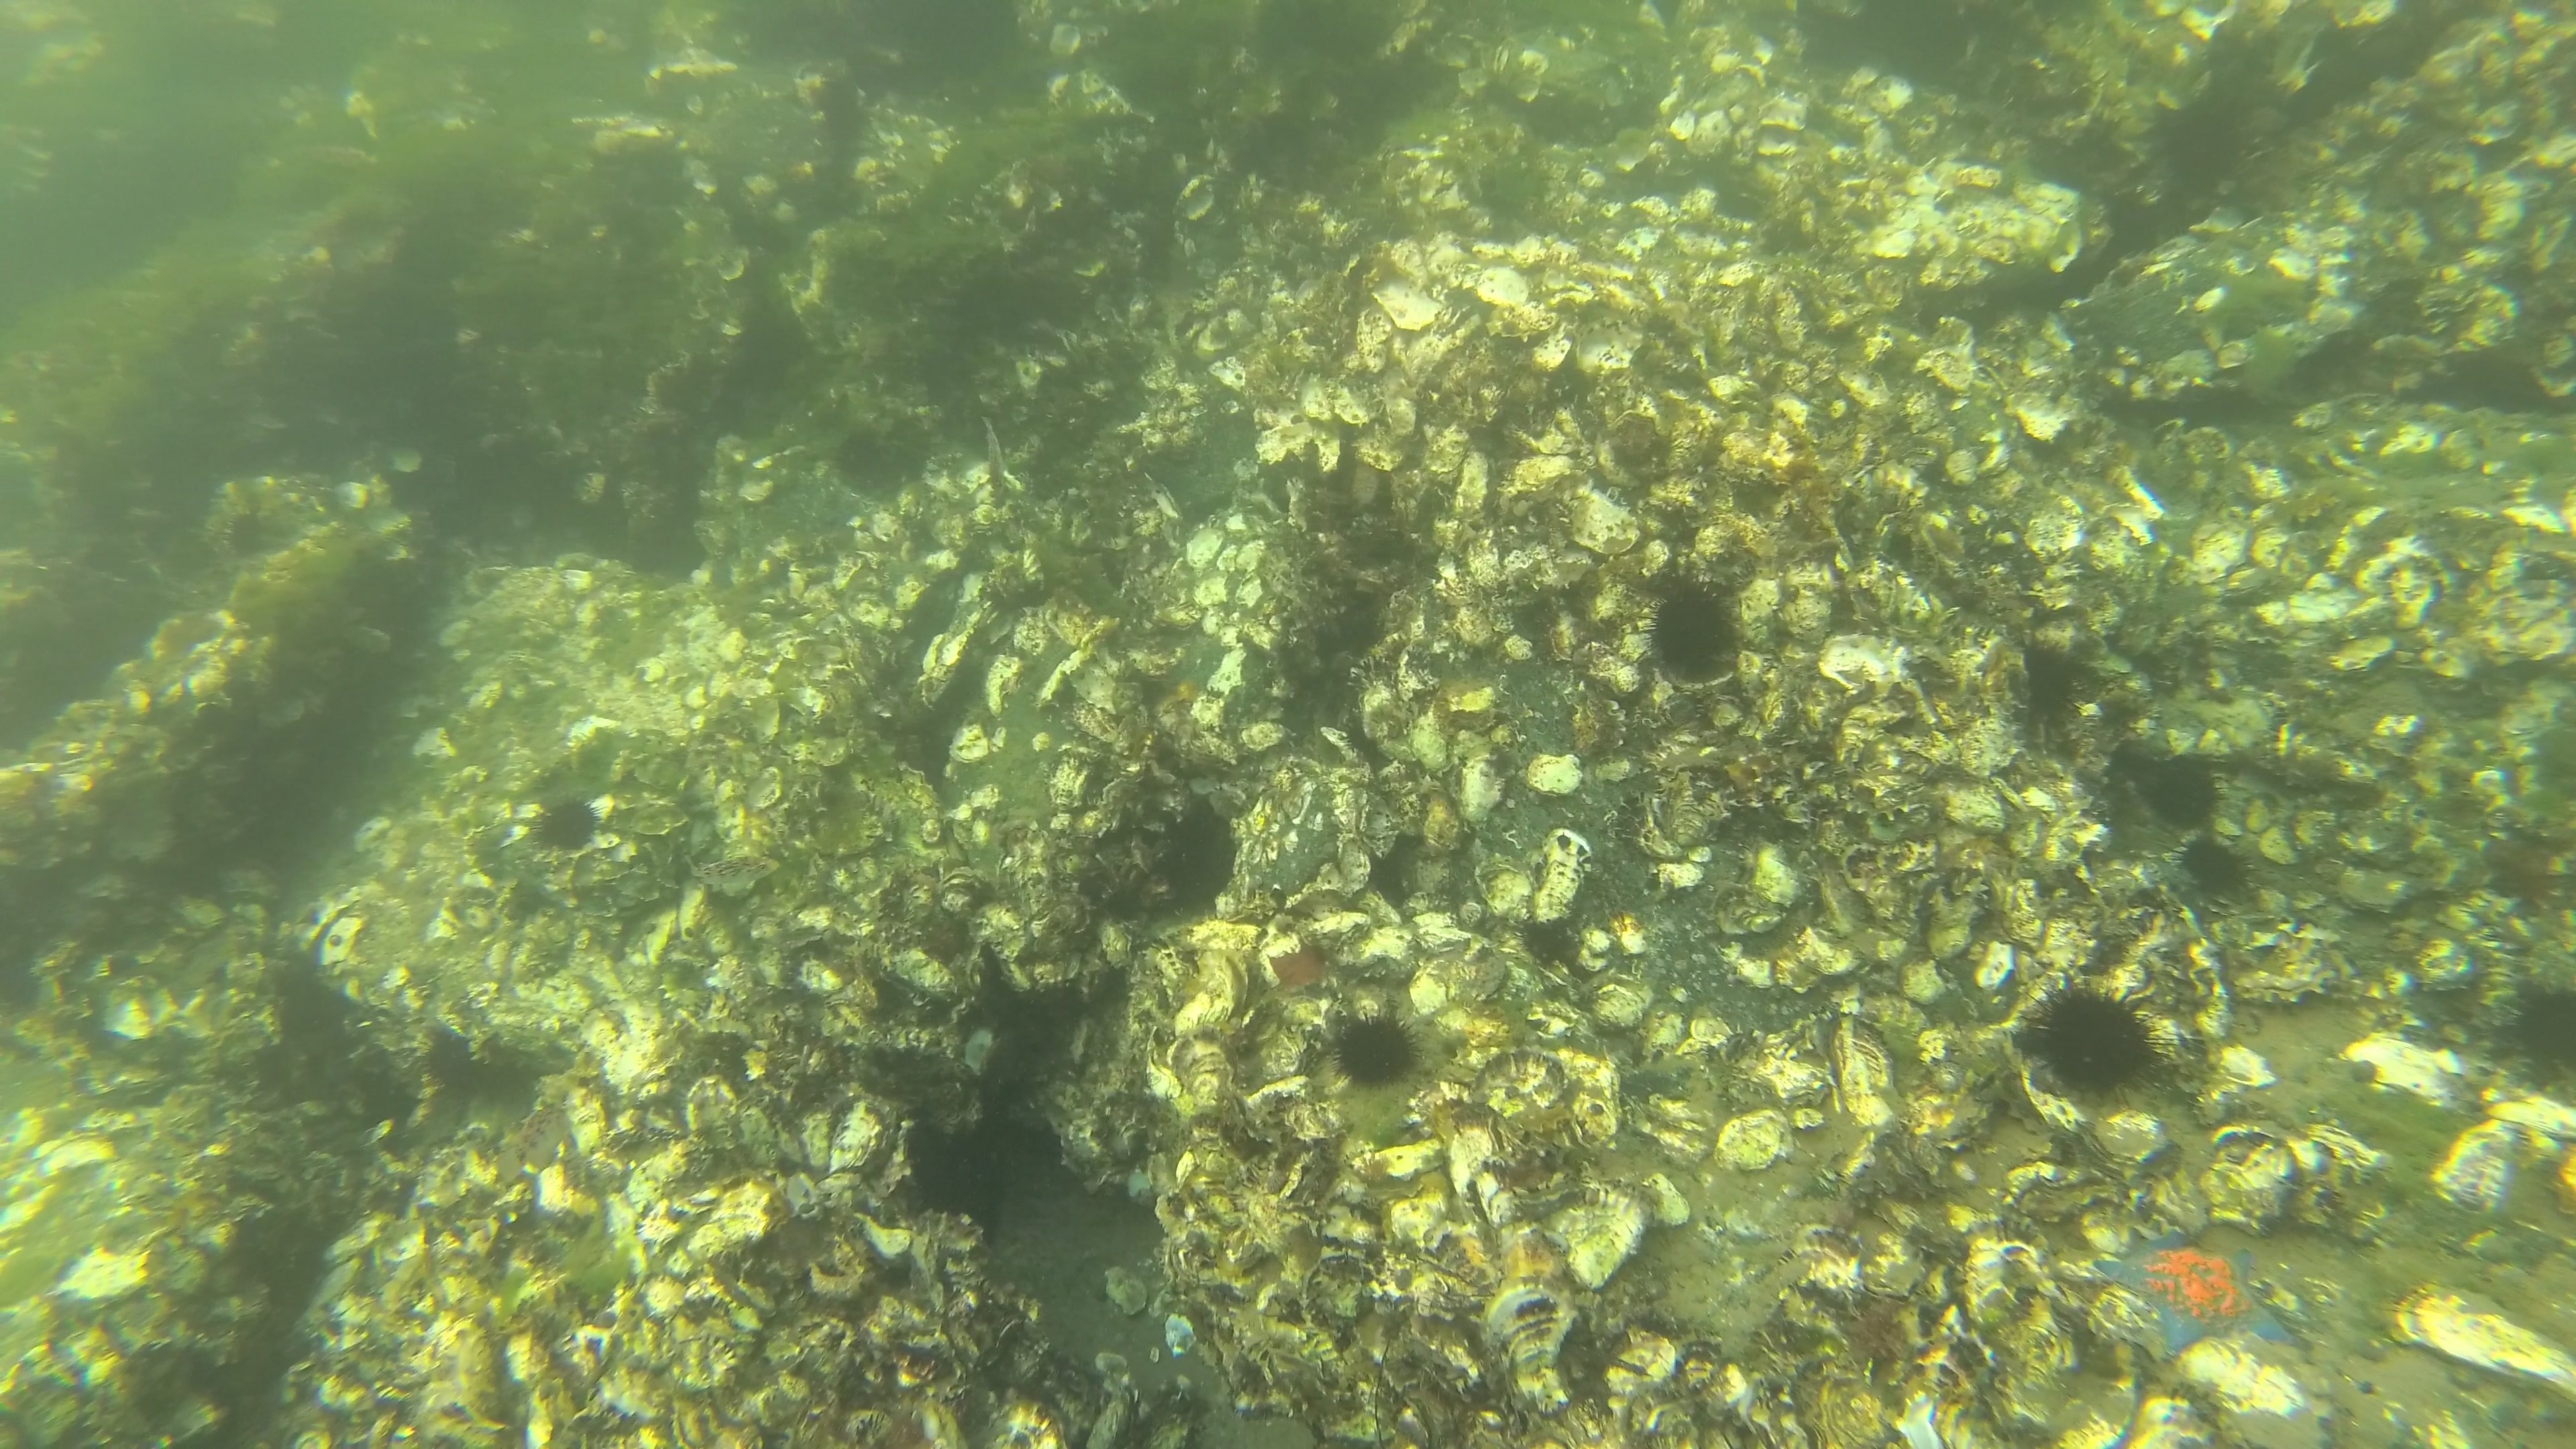echinus: (2006, 971, 2190, 1115), (1626, 559, 1750, 695), (2477, 962, 2574, 1106), (1316, 993, 1433, 1097), (1161, 796, 1249, 904), (823, 410, 911, 518), (2015, 628, 2097, 743), (2162, 830, 2265, 916), (2130, 747, 2229, 833), (525, 789, 612, 860), (216, 508, 274, 564)
starfish: (2089, 1223, 2296, 1357), (2204, 262, 2325, 345)
